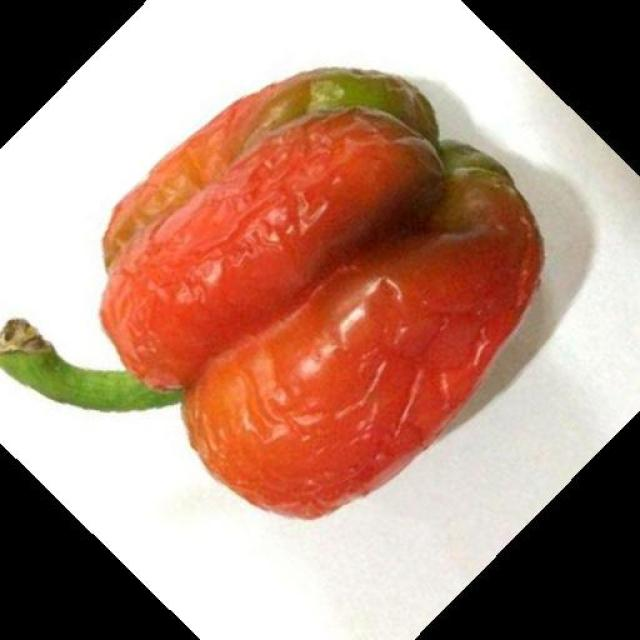Stale_Capsicum: (0, 48, 539, 516)
